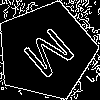M: (21, 26, 83, 88)
